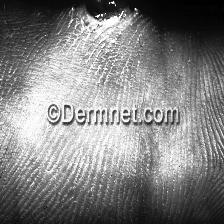Benign Marking or Mole: (75, 0, 139, 31)
